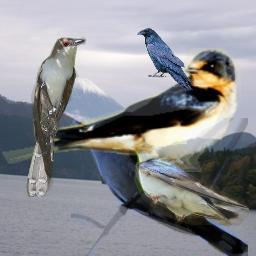Crow: (136, 27, 194, 90)
Cuckoo: (71, 118, 248, 256), (26, 35, 86, 197)
Swallow: (2, 48, 241, 172), (131, 141, 249, 229)
